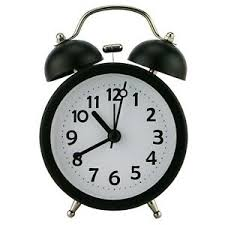alarm_clock: (30, 5, 191, 217), (37, 5, 191, 217)
